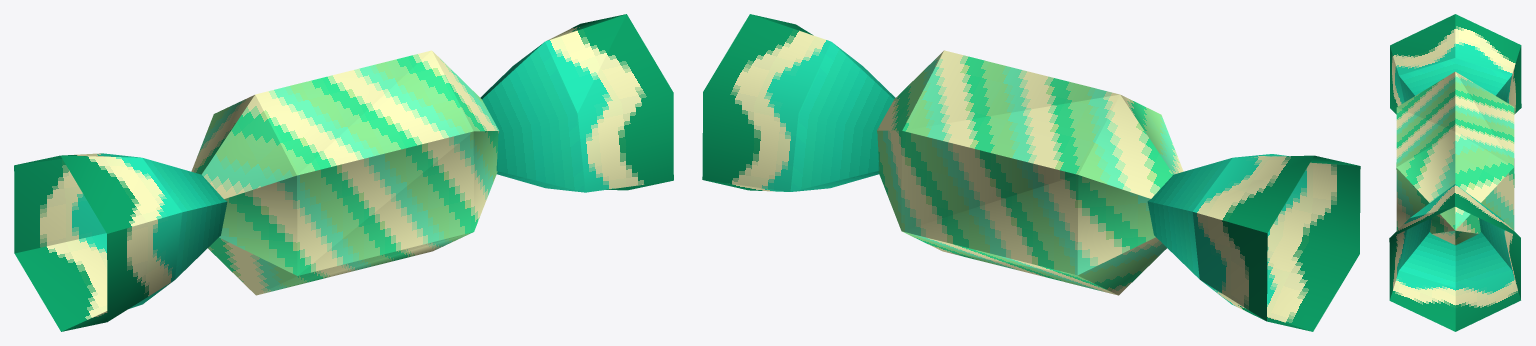
The model's file is Mint Candy.obj.
3 renders of one model, left to right at view 1: azimuth 30°, elevation 25°; view 2: azimuth 150°, elevation 25°; view 3: azimuth 270°, elevation 25°, orthographic. The views are drawn at different scales.
Visible parts, largest first — view 1: Mesh_0100; view 2: Mesh_0100; view 3: Mesh_0100.
Boxes of the visible parts, x1,y1,x2,y2 form: Mesh_0100: (14,14,673,331); Mesh_0100: (702,14,1360,331); Mesh_0100: (1389,14,1521,331).
Size of the model in its own units: 0.6019 by 0.2055 by 0.1717.
2 materials, 2 textured.
